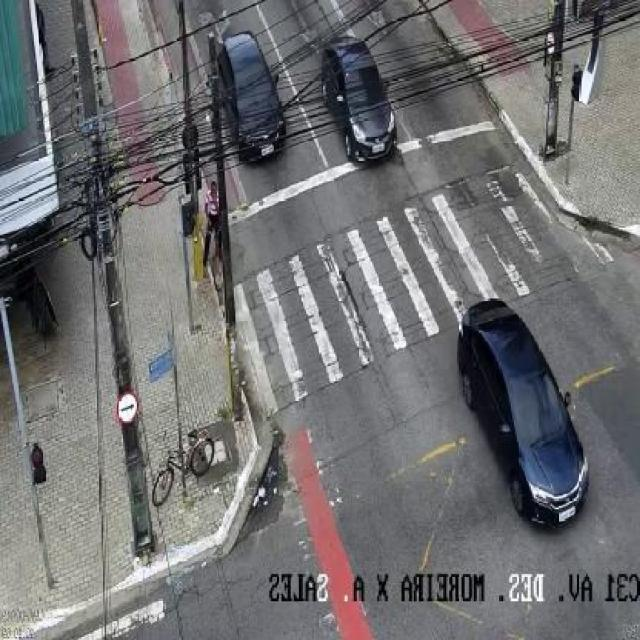Car: (450, 278, 598, 542), (209, 23, 295, 163), (321, 39, 402, 160)
